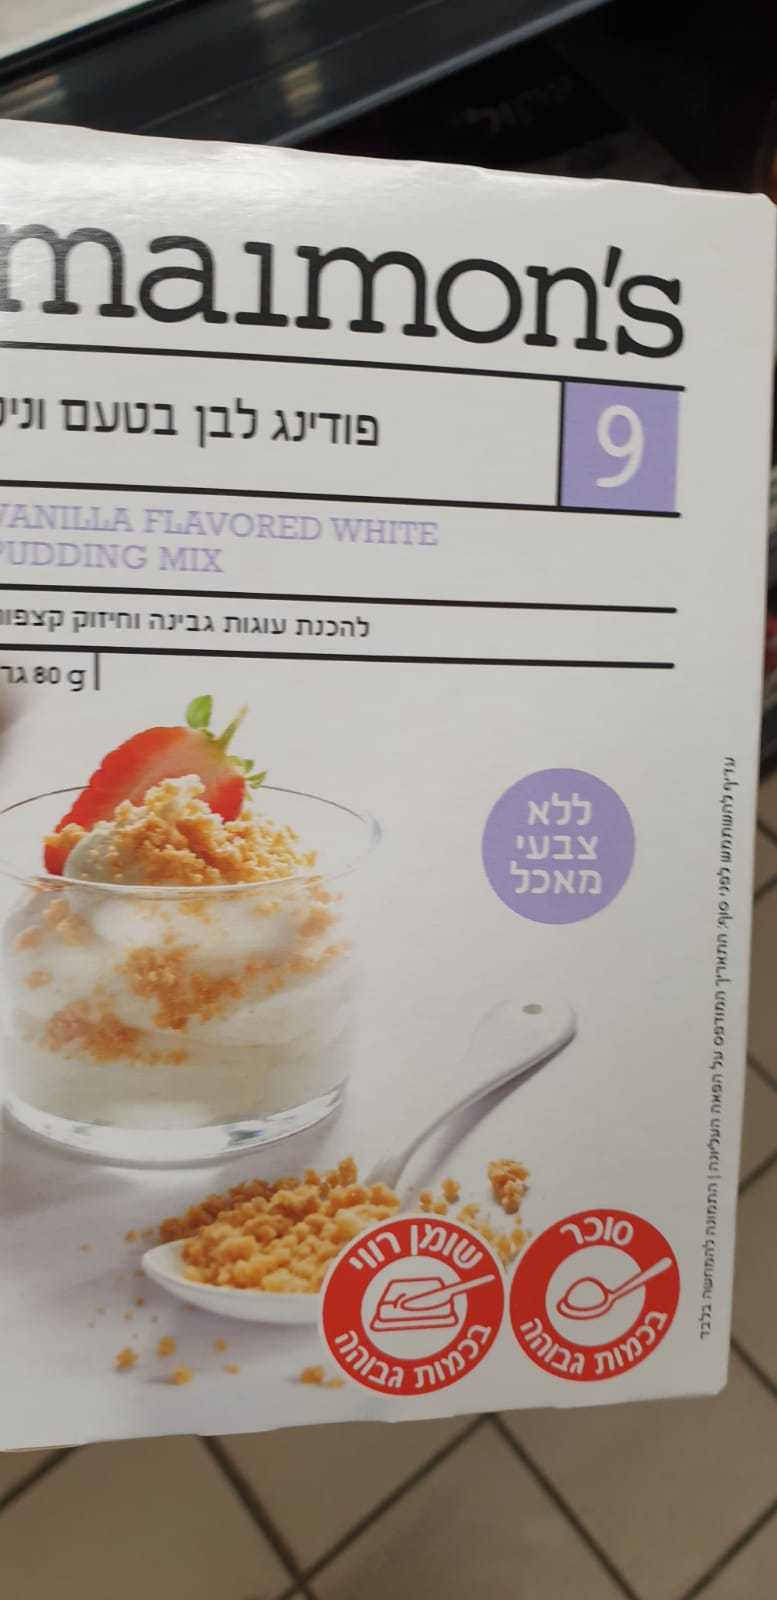fat: (319, 1211, 512, 1396)
sugar: (509, 1205, 679, 1386)
